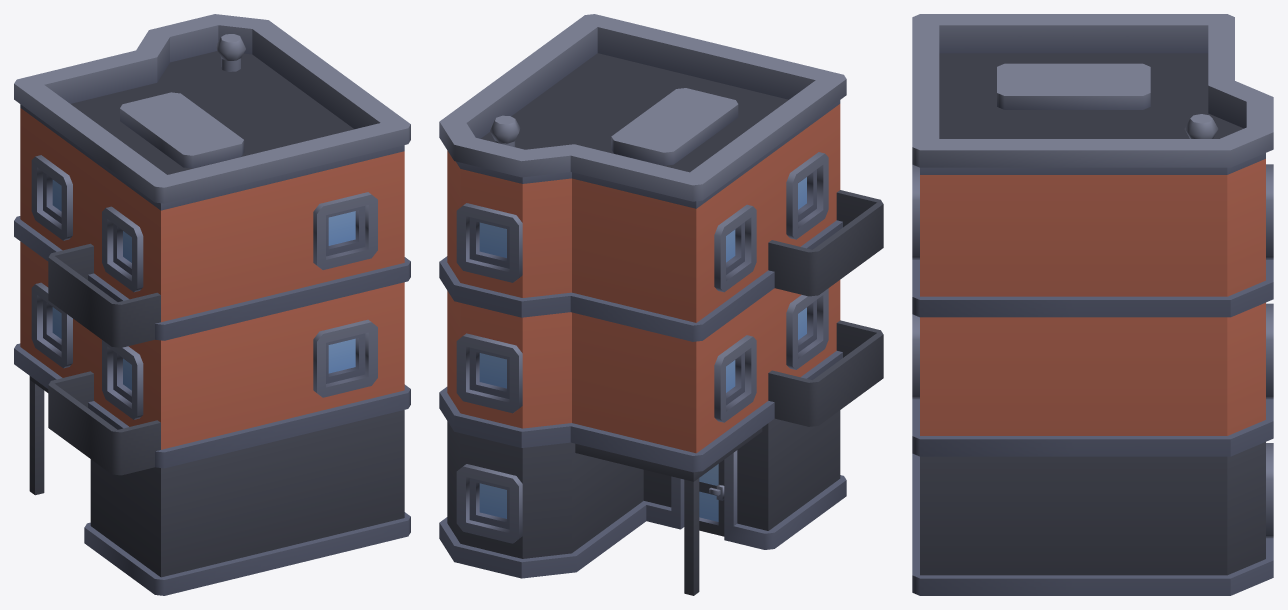
File: building-b-b.glb
3 views of the same model, side by side, from view 1: azimuth 30°, elevation 25°; view 2: azimuth 150°, elevation 25°; view 3: azimuth 270°, elevation 25° (orthographic). The views are drawn at different scales.
Visible parts, largest first — view 1: building-b; view 2: building-b; view 3: building-b.
Part boxes in pixels (bbox=[...]): building-b: bbox=[14, 14, 410, 595]; building-b: bbox=[439, 14, 883, 595]; building-b: bbox=[912, 14, 1273, 595].
Bounding box in the file's own units: 0.97 × 1.29 × 0.94.
1 material, 1 textured.
